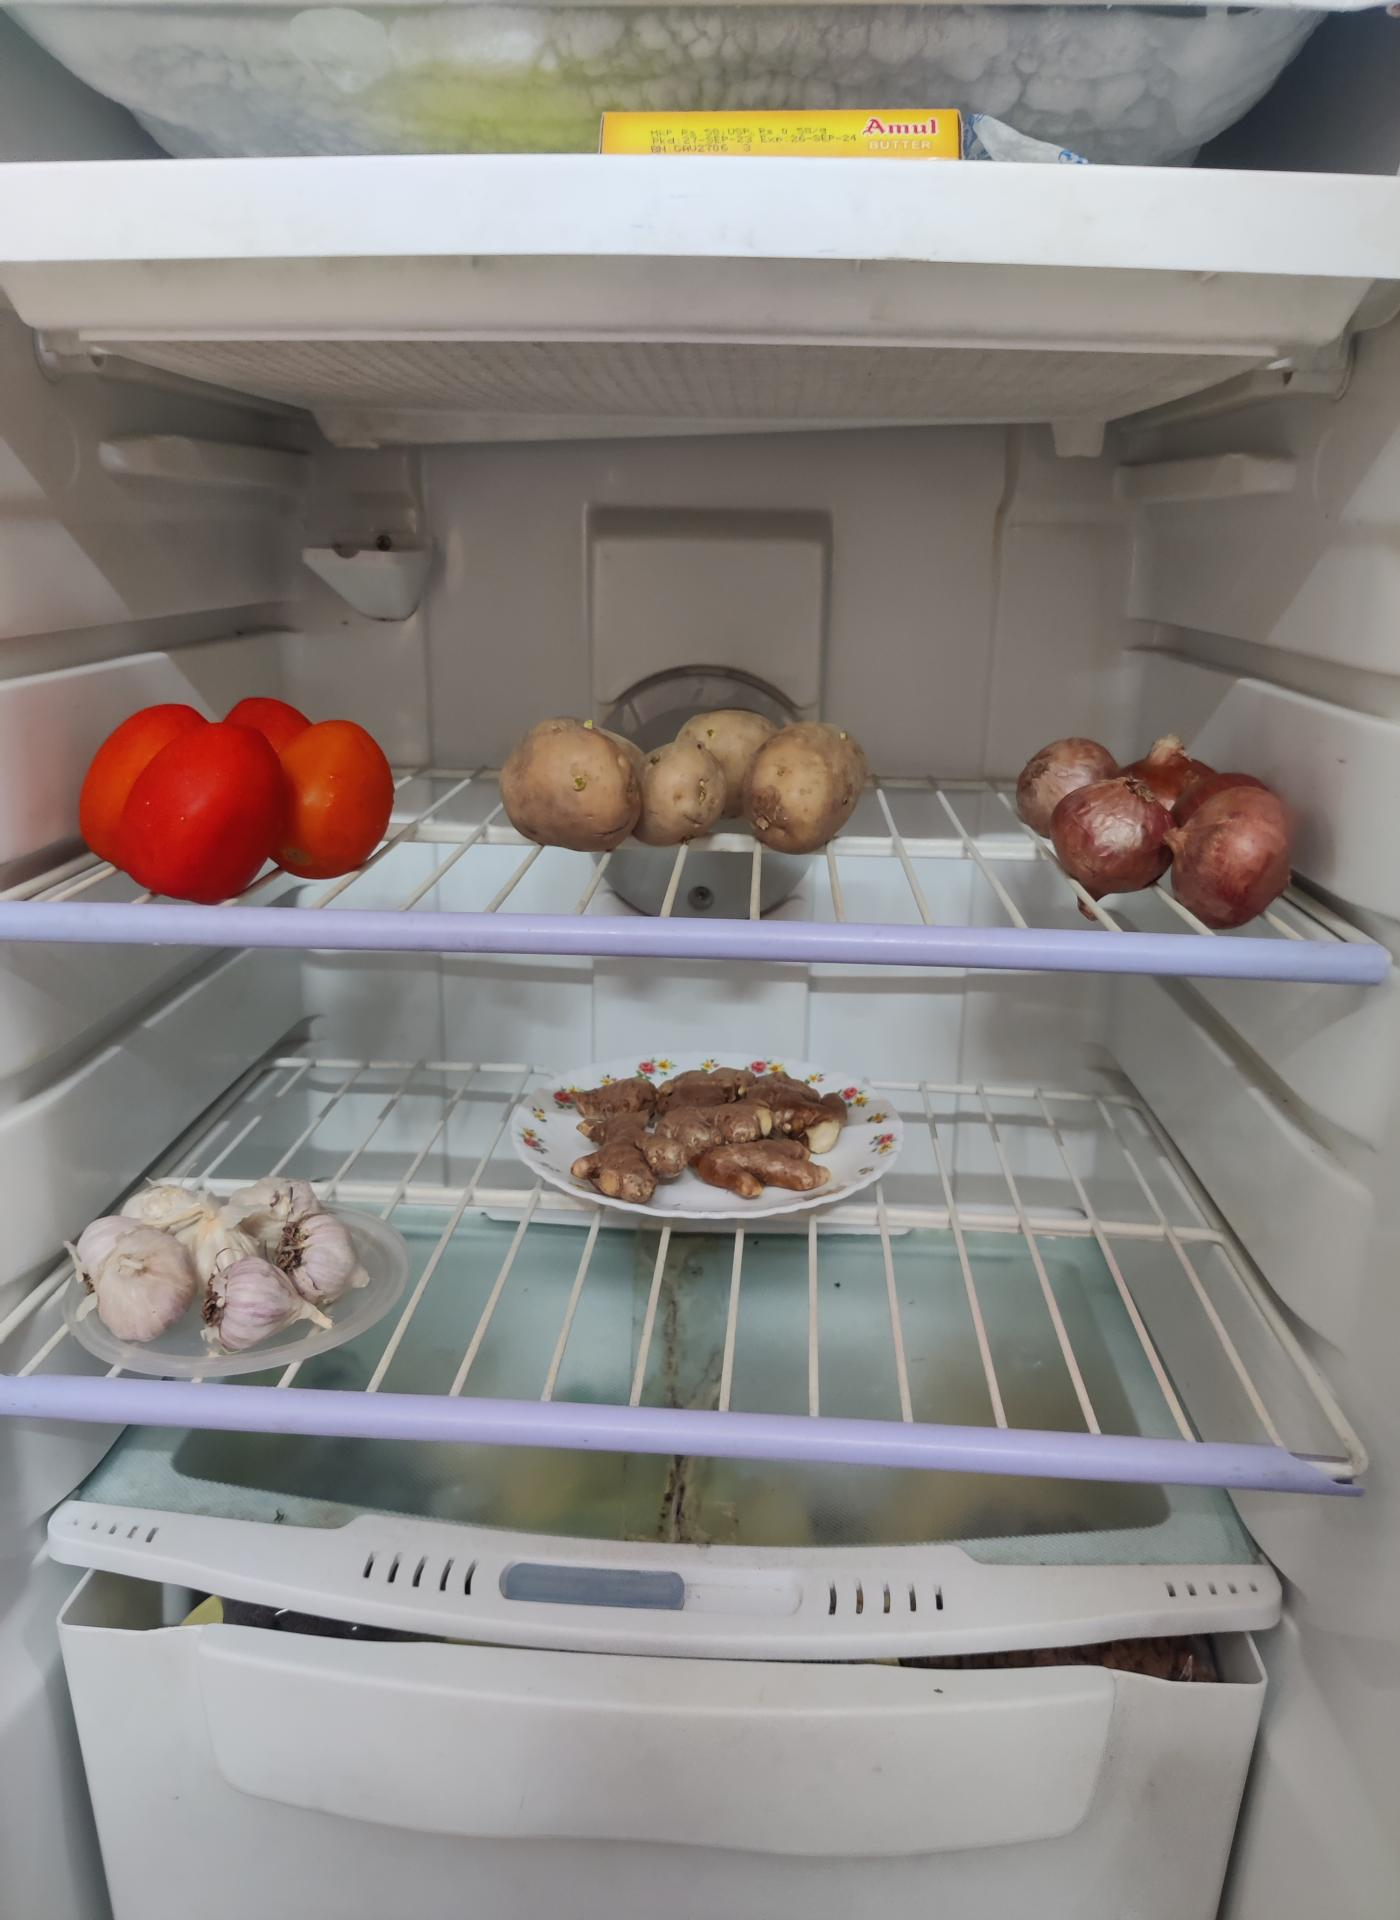carrots: (1014, 738, 1297, 929)
garlic: (75, 1172, 356, 1348)
ginger: (540, 1054, 880, 1194)
potato: (504, 714, 875, 865)
tomato: (85, 701, 401, 903)
